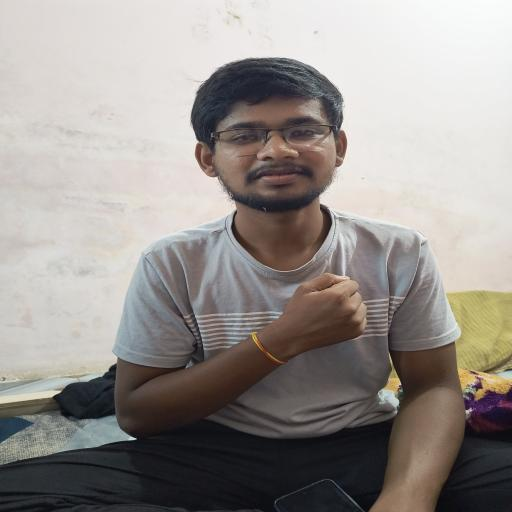Understood: (84, 215, 423, 458)
